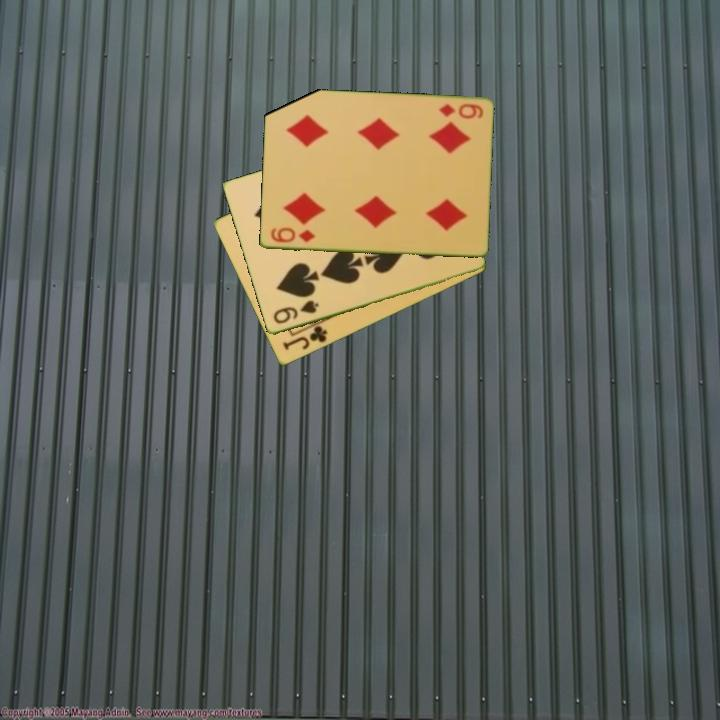6d: (435, 100, 486, 122), (267, 224, 317, 246)
9s: (269, 297, 322, 327)
Jc: (279, 318, 330, 353)
